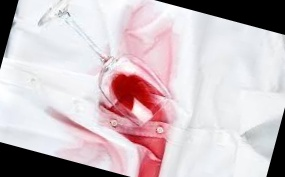wine: (91, 98, 180, 177), (109, 2, 185, 87), (51, 123, 121, 171)
